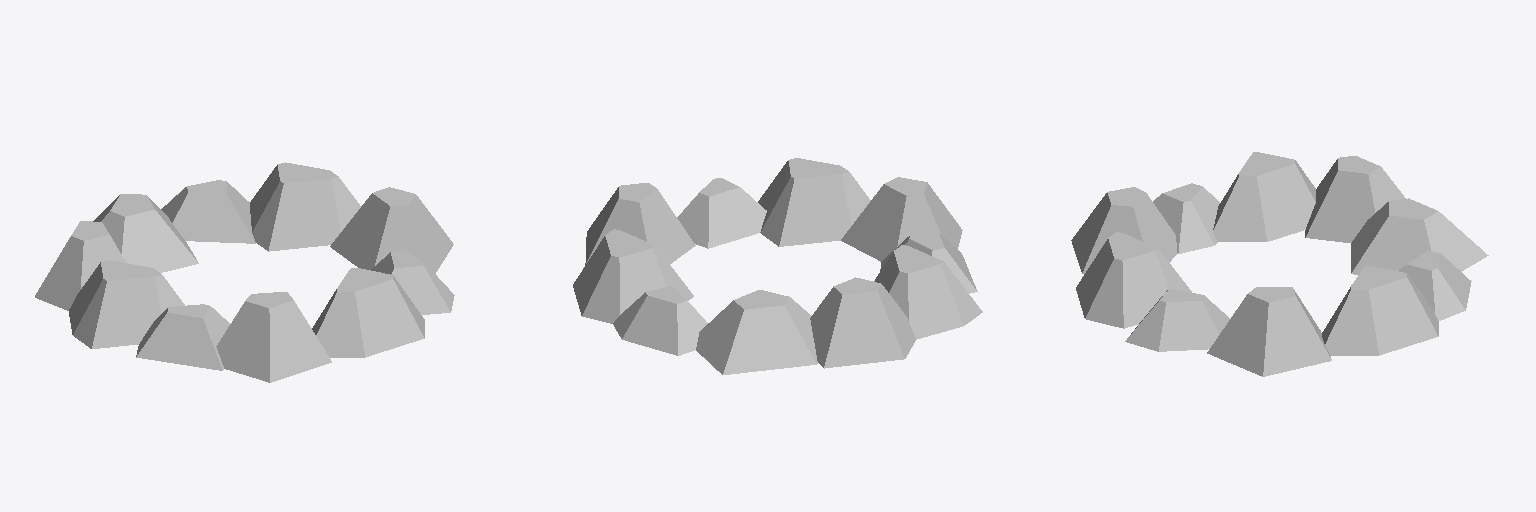
File: campfire_stone.obj
3 views of the same model, side by side, from view 1: azimuth 30°, elevation 25°; view 2: azimuth 150°, elevation 25°; view 3: azimuth 270°, elevation 25° (orthographic).
Parts seen in each view (by area): view 1: Mesh1_Group1_Model.002; view 2: Mesh1_Group1_Model.002; view 3: Mesh1_Group1_Model.002.
Boxes of the visible parts, x1=… form: Mesh1_Group1_Model.002: x1=35, y1=162, x2=454, y2=382; Mesh1_Group1_Model.002: x1=573, y1=158, x2=982, y2=374; Mesh1_Group1_Model.002: x1=1071, y1=152, x2=1488, y2=376.
Size of the model in its own units: 1.84 by 0.265 by 1.76.